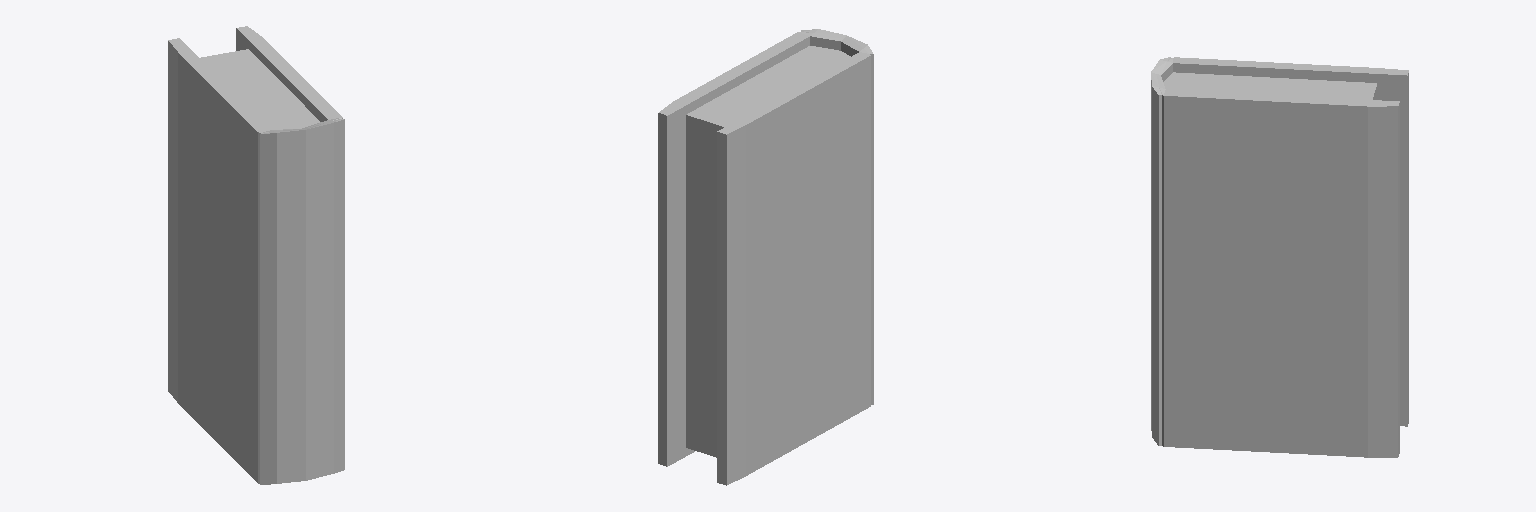
The model's file is bookblue.obj.
3 renders of one model, left to right at view 1: azimuth 30°, elevation 25°; view 2: azimuth 150°, elevation 25°; view 3: azimuth 270°, elevation 25°, orthographic.
Parts seen in each view (by area): view 1: pCube1; view 2: pCube1; view 3: pCube1.
Part boxes in pixels (x1,y1,x2,y2): pCube1: (168, 26, 344, 484); pCube1: (658, 29, 873, 485); pCube1: (1151, 57, 1408, 457).
Size of the model in its own units: 0.1147 by 0.3817 by 0.2522.